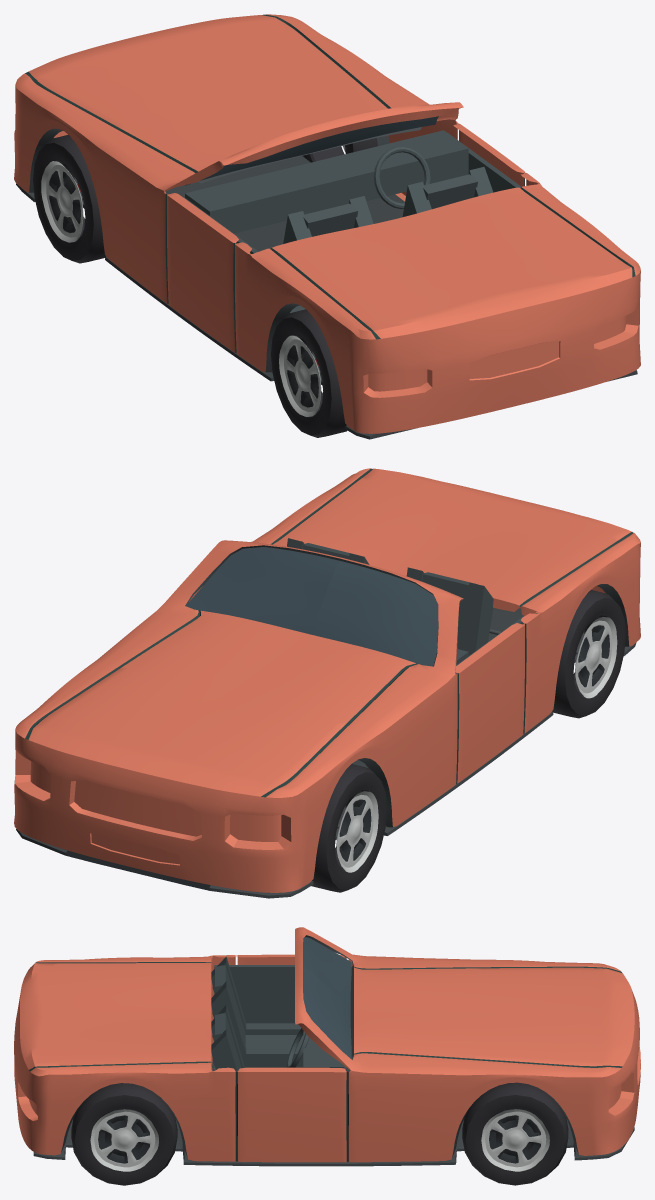
File: forge_open_roadster_lod2.fbx
3 renders of one model, top to bottom at view 1: azimuth 30°, elevation 25°; view 2: azimuth 150°, elevation 25°; view 3: azimuth 270°, elevation 25°, orthographic. The views are drawn at different scales.
Visible parts, largest first — view 1: Body, Wheel_RL_Mesh, Wheel_FL_Mesh, Wheel_FR_Mesh; view 2: Body, Wheel_FL_Mesh, Wheel_RL_Mesh; view 3: Body, Wheel_FR_Mesh, Wheel_RR_Mesh.
Part boxes in pixels (x1,y1,x2,y2): Body: (14, 14, 640, 439); Wheel_RL_Mesh: (271, 309, 347, 437); Wheel_FL_Mesh: (33, 135, 105, 263); Wheel_FR_Mesh: (302, 138, 377, 162); Body: (14, 468, 640, 898); Wheel_FL_Mesh: (311, 764, 387, 892); Wheel_RL_Mesh: (552, 590, 625, 718); Body: (14, 927, 640, 1166); Wheel_FR_Mesh: (462, 1082, 568, 1185); Wheel_RR_Mesh: (71, 1083, 177, 1185).
Size of the model in its own units: 149 by 96.53 by 333.
